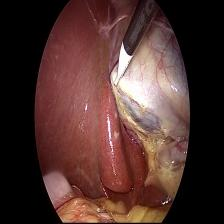Hook: (113, 42, 132, 88)
